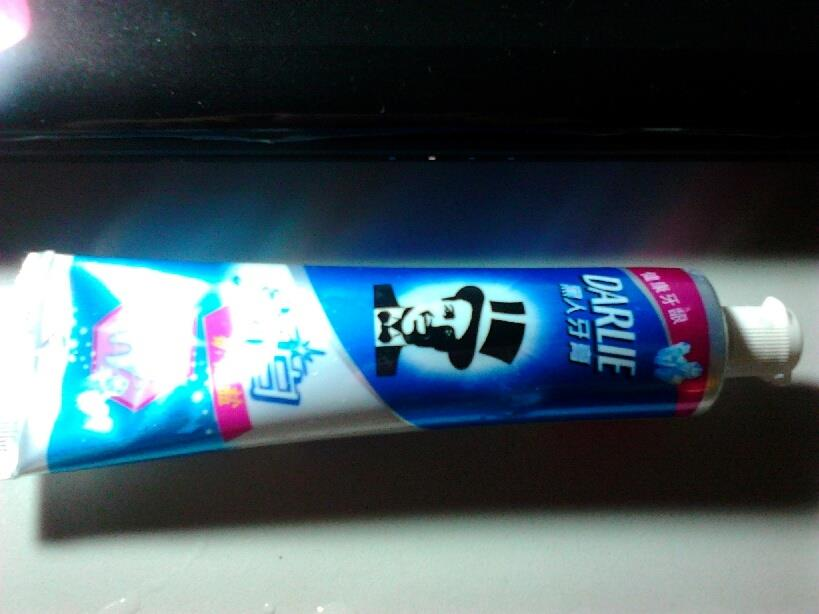darlie: (367, 274, 525, 377)
